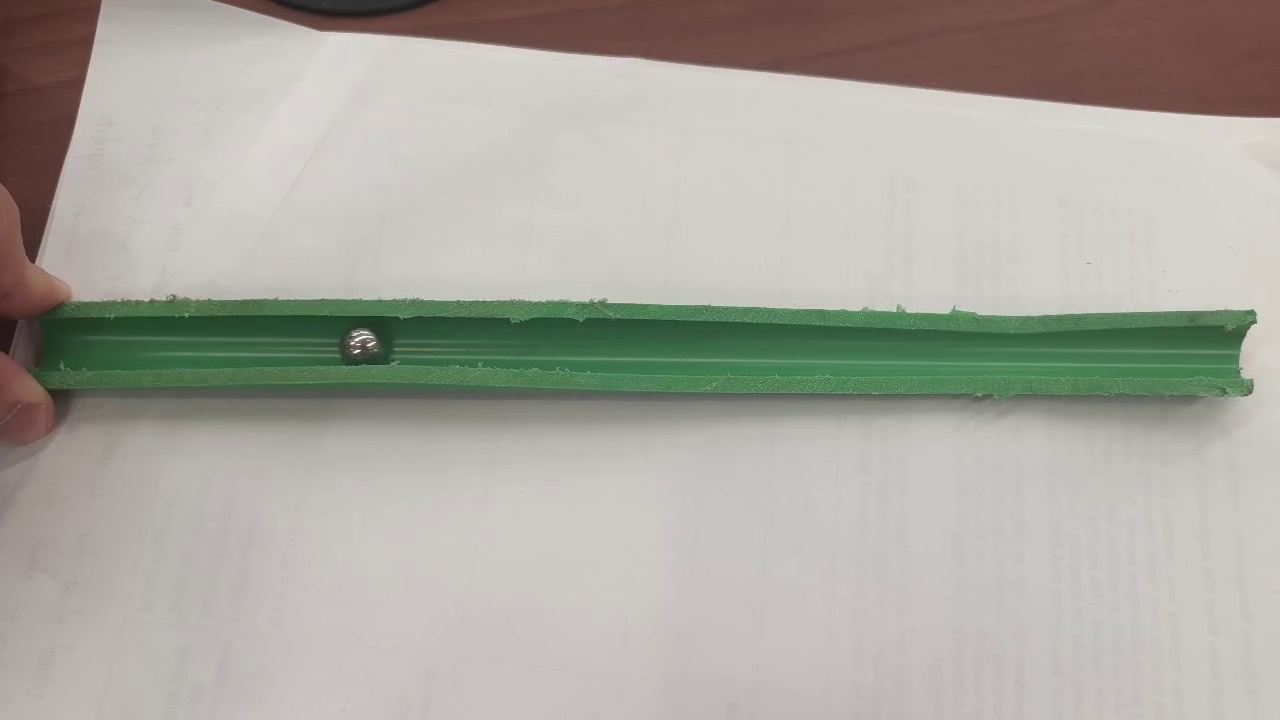ball: (344, 328, 379, 359)
